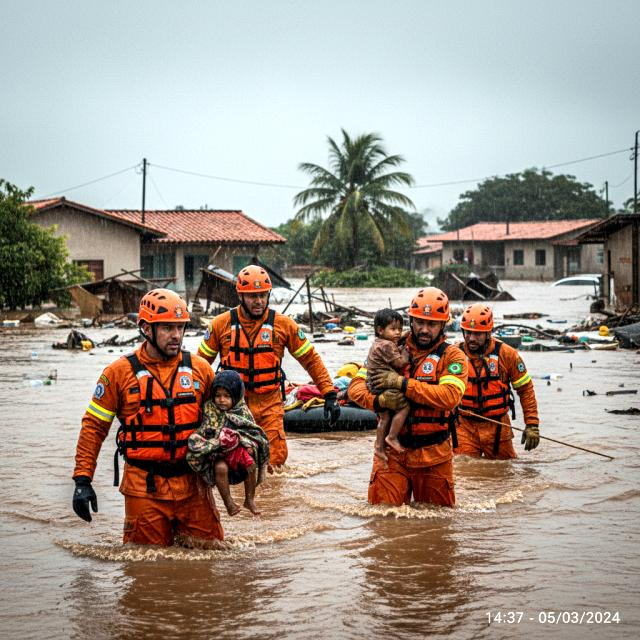civilian: (186, 369, 269, 523), (357, 300, 421, 453)
rescuer: (63, 280, 248, 547), (200, 254, 338, 468), (368, 278, 460, 512), (441, 298, 557, 470)
